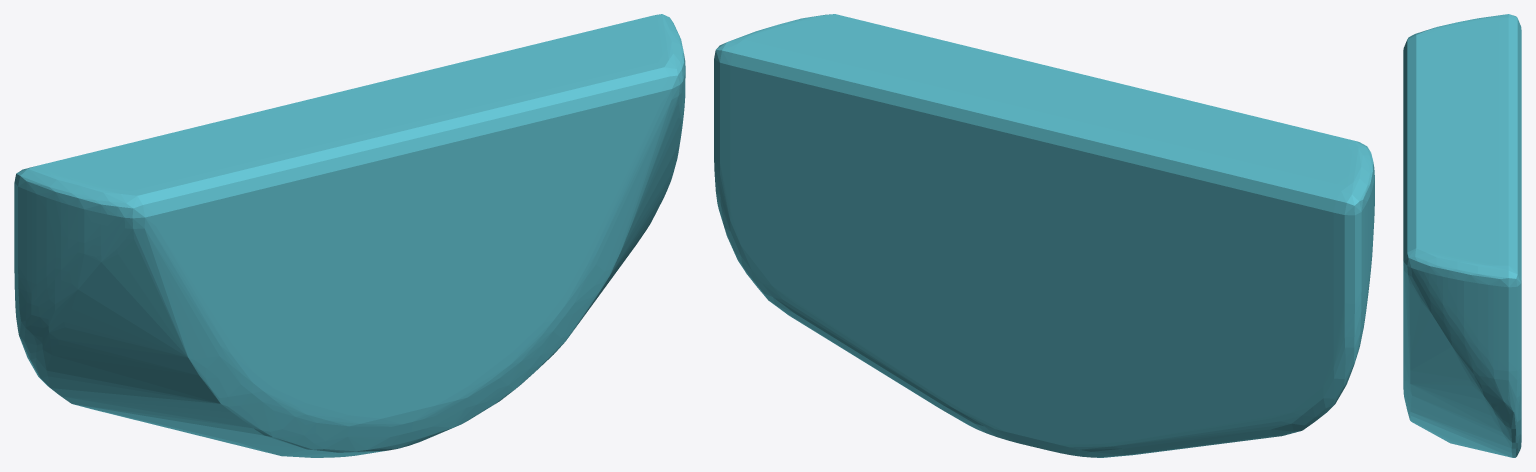
Rendered from pelvis_part_2.obj.
The picture shows the model from 3 angles, left to right: view 1: azimuth 30°, elevation 25°; view 2: azimuth 150°, elevation 25°; view 3: azimuth 270°, elevation 25°; orthographic projection. The views are drawn at different scales.
Size of the model in its own units: 0.1353 by 0.0665 by 0.0256.
